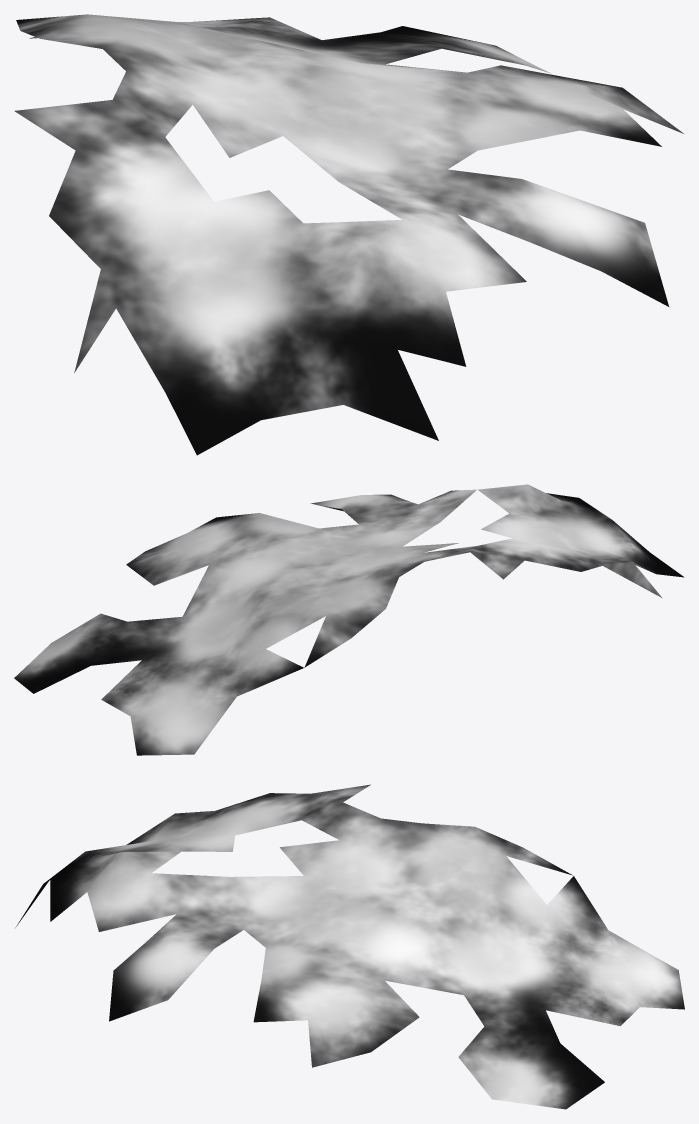
The model's file is IslandGrassBase.gltf.
3 renders of one model, top to bottom at view 1: azimuth 30°, elevation 25°; view 2: azimuth 150°, elevation 25°; view 3: azimuth 270°, elevation 25°, orthographic. The views are drawn at different scales.
Visible parts, largest first — view 1: IslandGrassBase; view 2: IslandGrassBase; view 3: IslandGrassBase.
Boxes of the visible parts, x1=… form: IslandGrassBase: x1=14, y1=14, x2=683, y2=455; IslandGrassBase: x1=14, y1=484, x2=684, y2=755; IslandGrassBase: x1=15, y1=784, x2=684, y2=1109.
Size of the model in its own units: 8.86 by 2.43 by 11.06.
